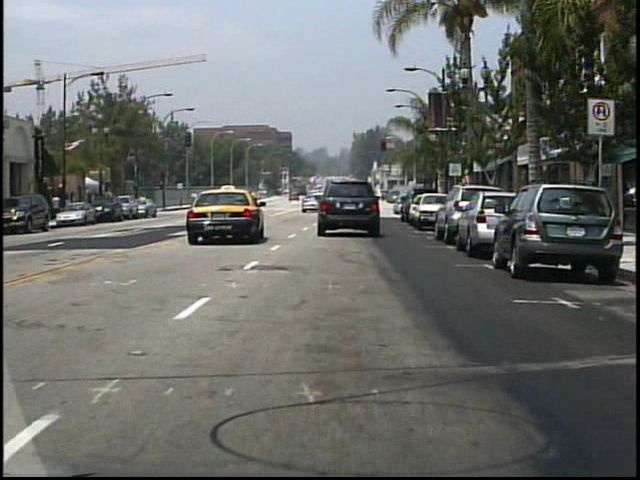person: (324, 191, 337, 213), (53, 193, 64, 217), (252, 190, 264, 211)
